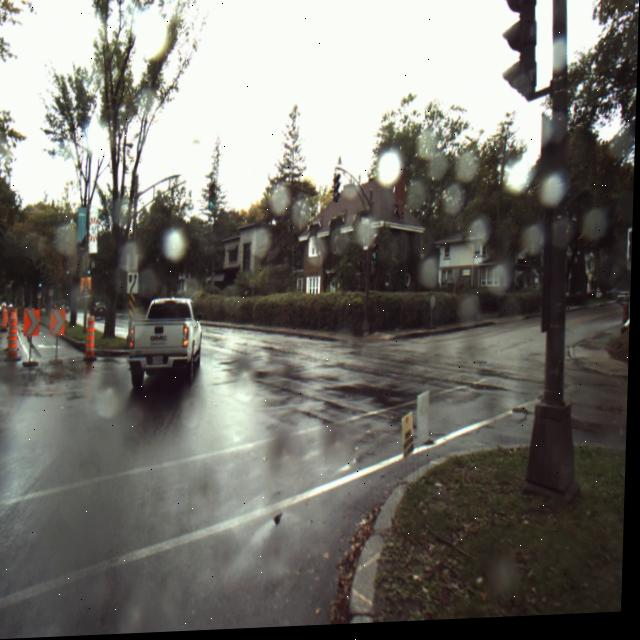car: (131, 297, 204, 391)
trafficLight: (500, 0, 541, 100), (335, 176, 343, 207)
trafficLight-Green: (209, 182, 219, 214)
